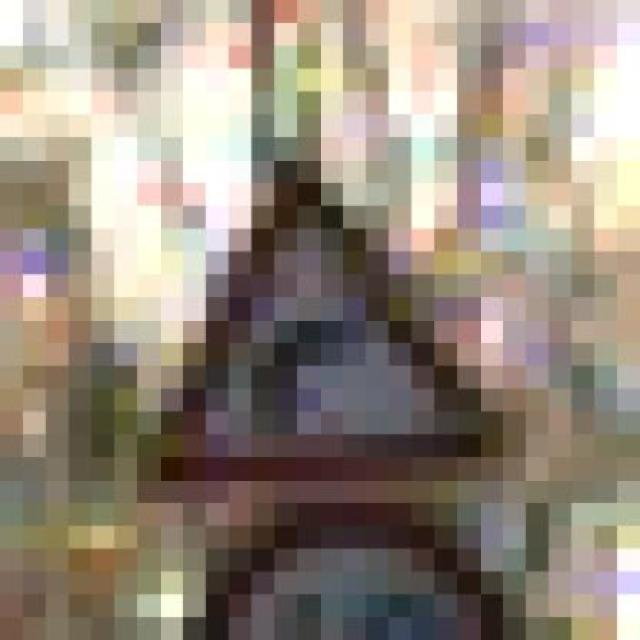Dangerous Rright Curve Ahead: (91, 137, 526, 503)
